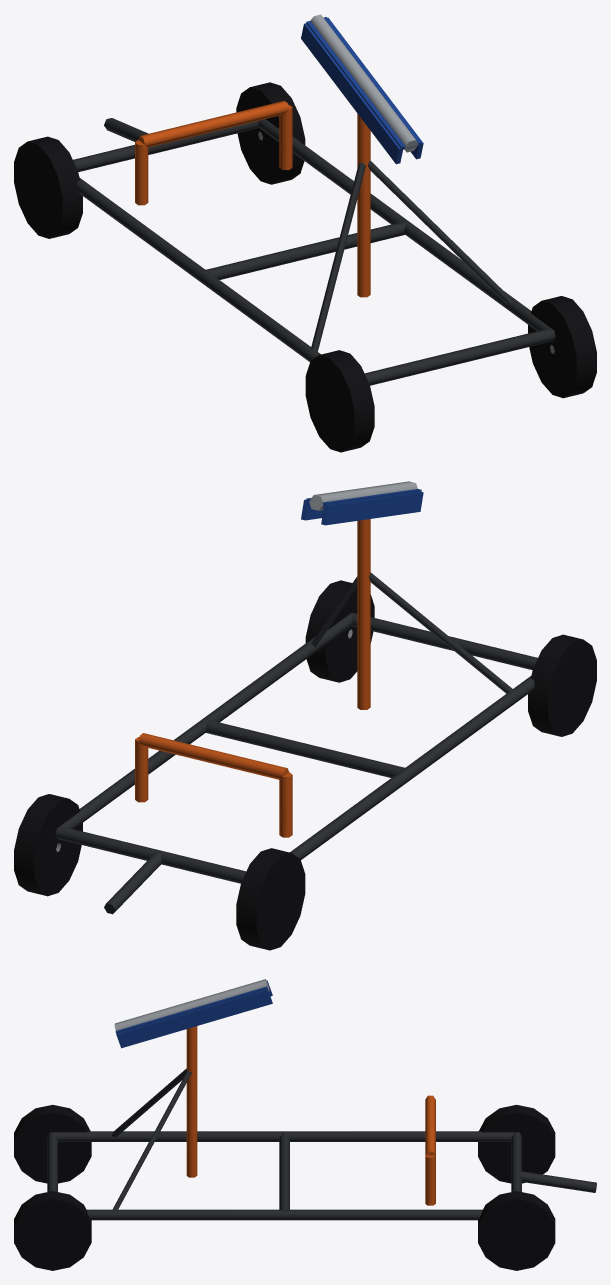
File: tow_dolly.glb
The picture shows the model from 3 angles, top to bottom: view 1: azimuth 30°, elevation 25°; view 2: azimuth 150°, elevation 25°; view 3: azimuth 270°, elevation 25°; orthographic projection. The views are drawn at different scales.
Visible parts, largest first — view 1: tow_dolly_LOD0; view 2: tow_dolly_LOD0; view 3: tow_dolly_LOD0.
Part boxes in pixels (x1=…): tow_dolly_LOD0: x1=14, y1=14, x2=596, y2=452; tow_dolly_LOD0: x1=14, y1=481, x2=596, y2=950; tow_dolly_LOD0: x1=14, y1=979, x2=596, y2=1270.
Size of what is drawn, in the model's own units: 0.84 by 1.01 by 2.2.
